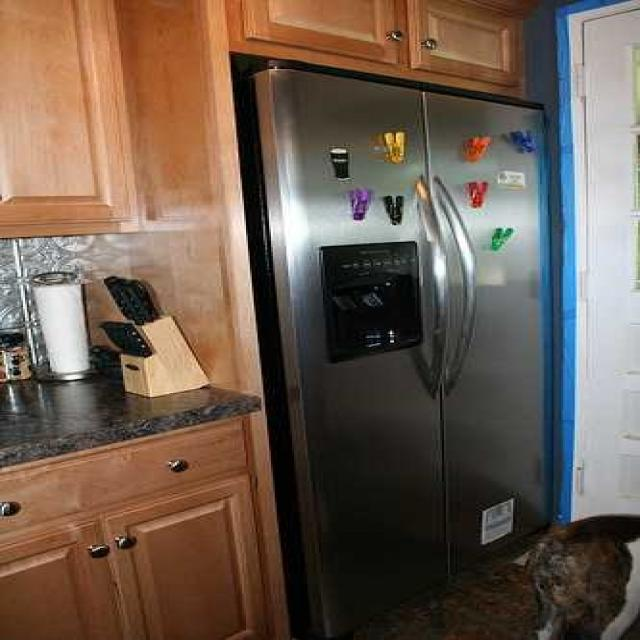refrigerator: (243, 68, 569, 640)
